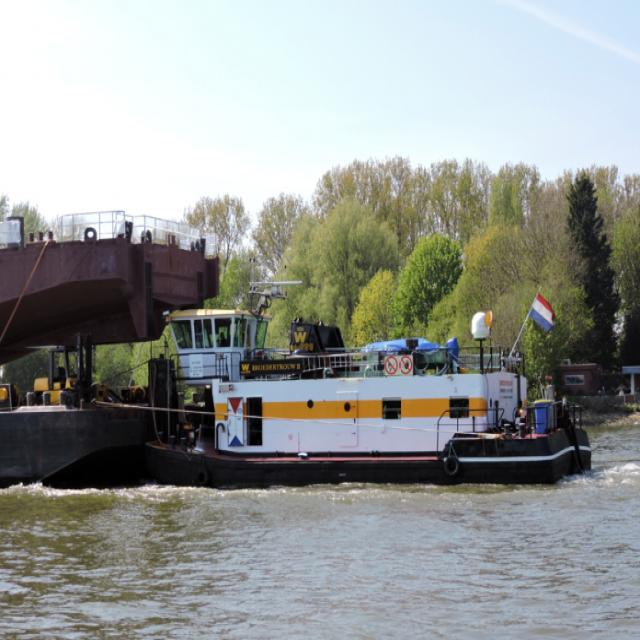tugboat: (142, 292, 600, 500)
